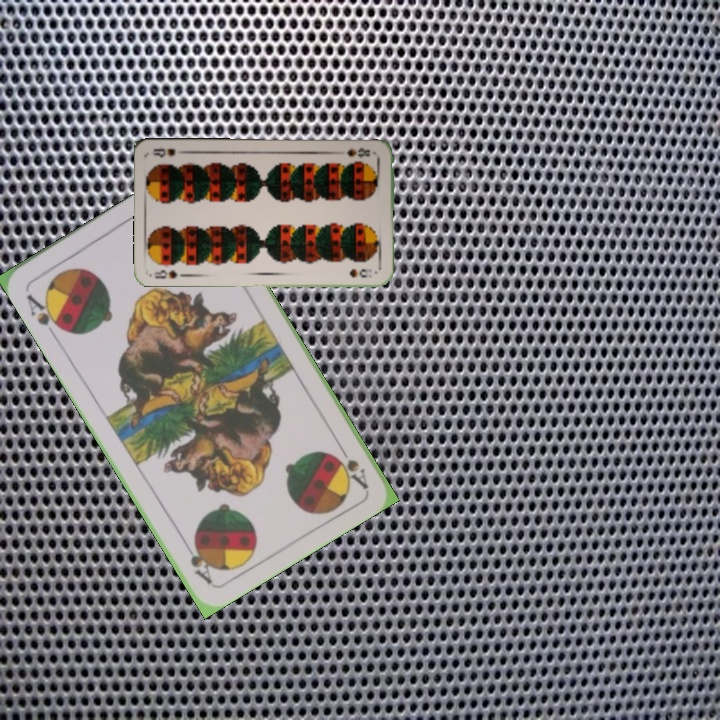S8: (342, 143, 373, 161), (151, 266, 180, 281)
SA: (330, 437, 371, 491), (22, 290, 68, 334)
